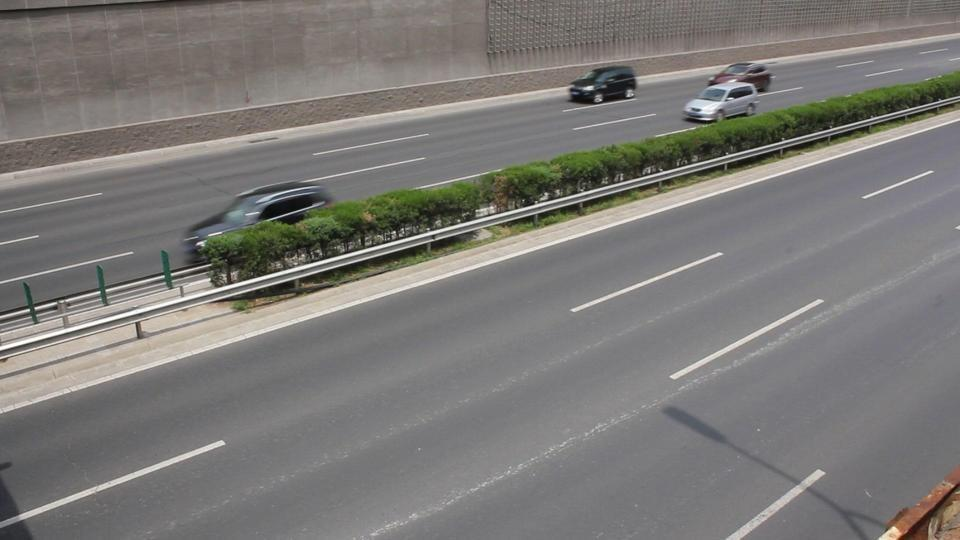car: (178, 180, 335, 258), (682, 80, 759, 123), (567, 65, 638, 105), (711, 61, 773, 92)
